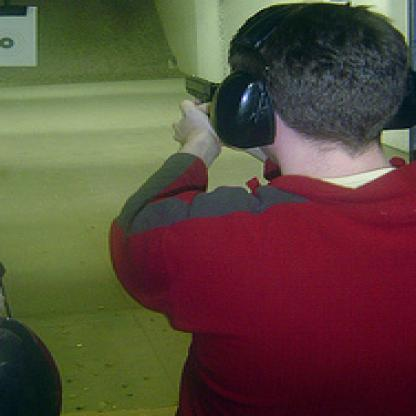gun: (171, 70, 242, 135)
